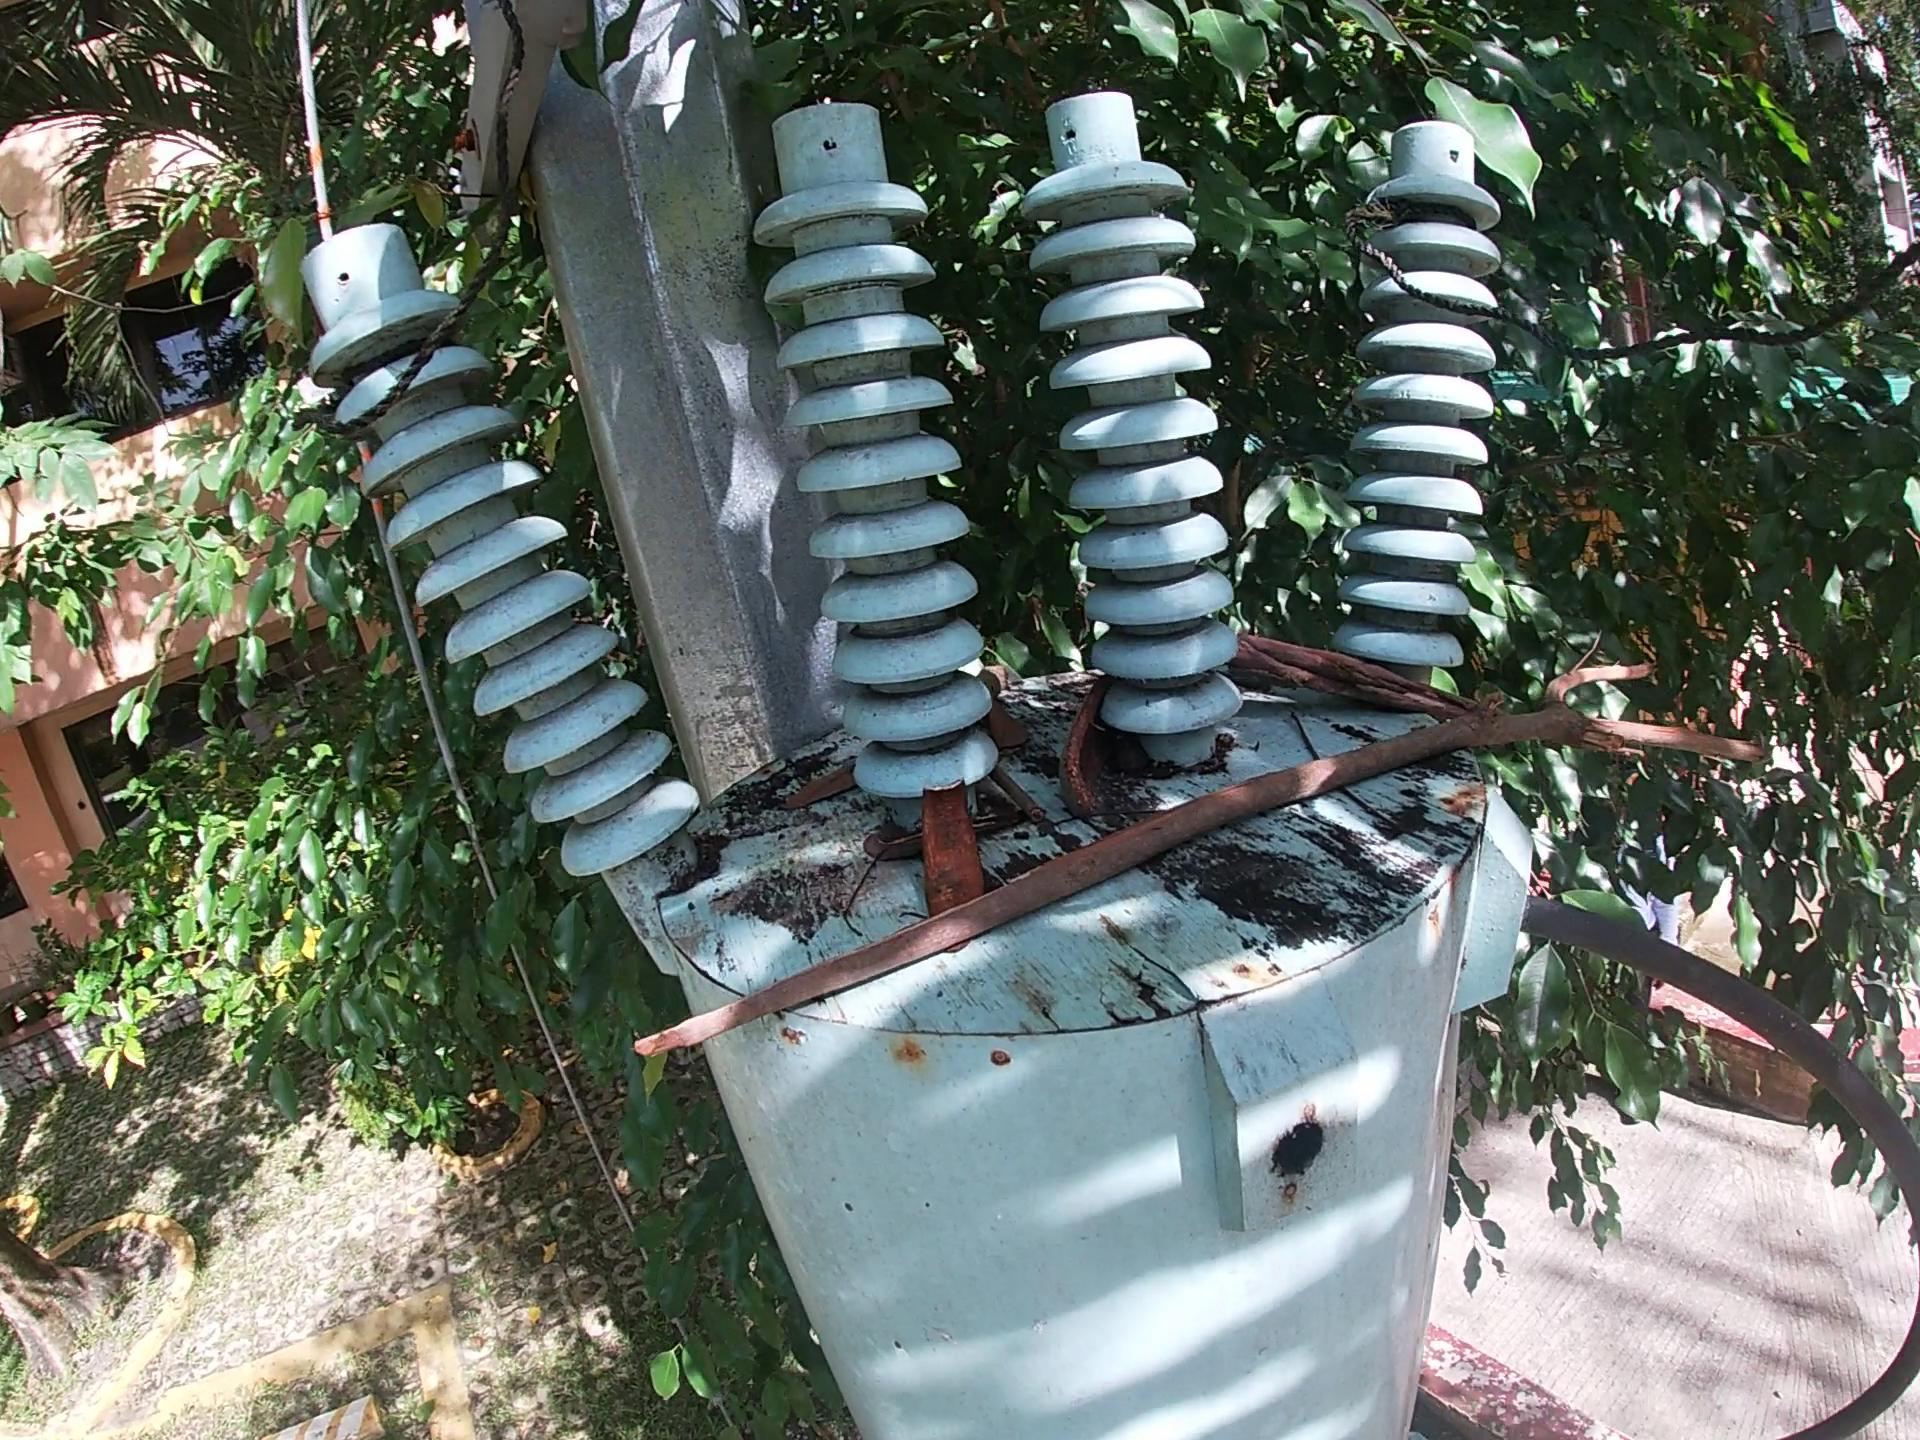leaf: (782, 744, 901, 811), (853, 826, 915, 871)
mahogany fruit: (907, 768, 993, 908), (1055, 681, 1125, 836)
tree branch: (608, 644, 1804, 1094), (1231, 638, 1491, 731), (847, 802, 922, 942), (990, 761, 1052, 838), (1339, 782, 1411, 832), (1277, 705, 1339, 749), (986, 650, 1022, 676)
